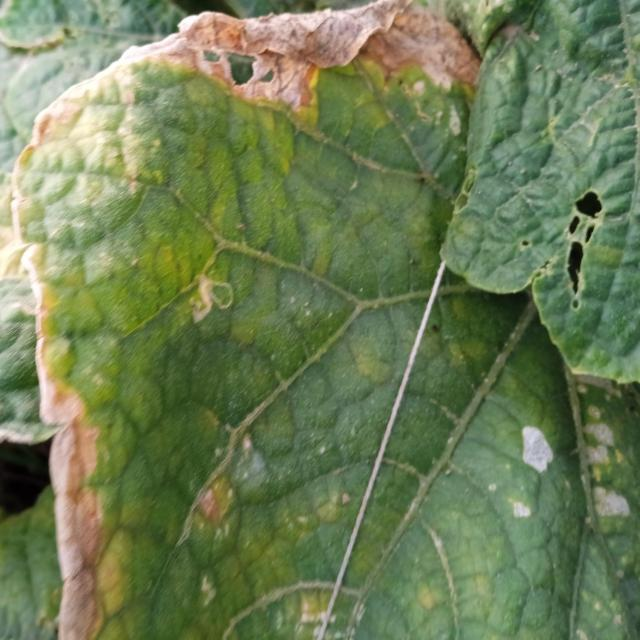cucumber_gummy: (11, 0, 592, 640)
